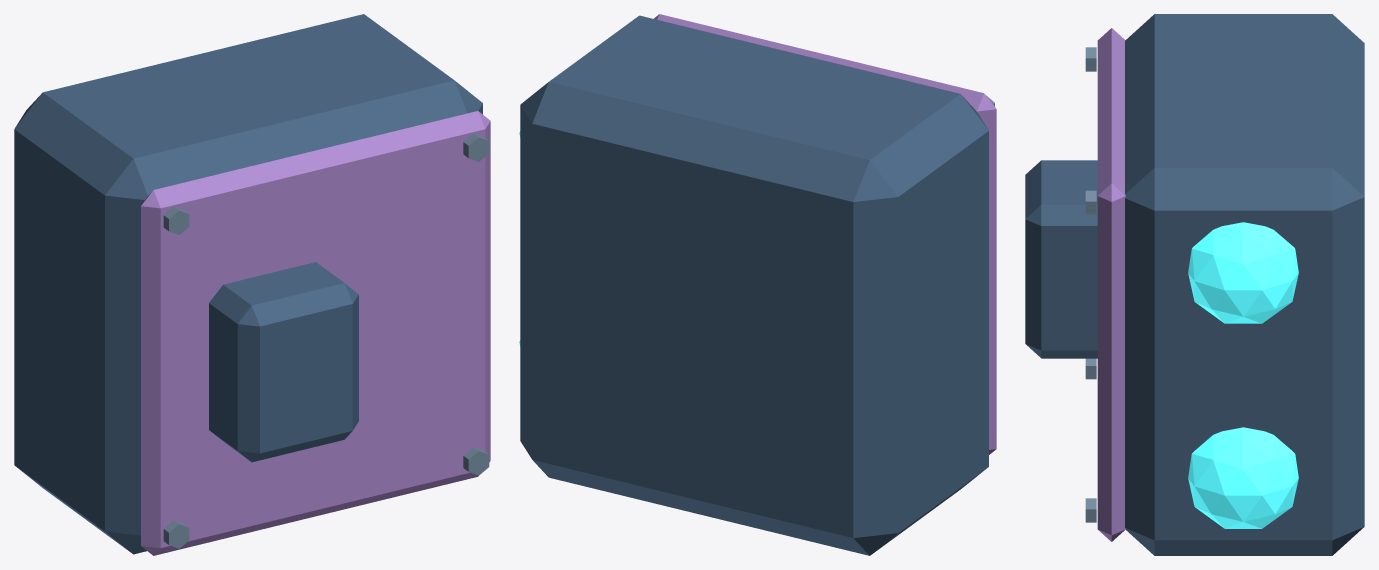
The model's file is arc_emitter.glb.
3 renders of one model, left to right at view 1: azimuth 30°, elevation 25°; view 2: azimuth 150°, elevation 25°; view 3: azimuth 270°, elevation 25°, orthographic.
Visible parts, largest first — view 1: Front armor.003, Structural core.003, Arc transformer, Rivet.018, Rivet.017, Rivet.019, Rivet.016; view 2: Structural core.003, Front armor.003; view 3: Structural core.003, Front armor.003, Arc transformer, Electrode.001, Electrode.
Boxes of the visible parts, left/top/right/bottom form: Front armor.003: left=141, top=111, right=490, bottom=555; Structural core.003: left=14, top=14, right=482, bottom=554; Arc transformer: left=209, top=262, right=358, bottom=462; Rivet.018: left=463, top=447, right=489, bottom=475; Rivet.017: left=163, top=206, right=189, bottom=234; Rivet.019: left=463, top=133, right=489, bottom=161; Rivet.016: left=163, top=520, right=189, bottom=548; Structural core.003: left=520, top=15, right=988, bottom=555; Front armor.003: left=653, top=14, right=996, bottom=454; Structural core.003: left=1125, top=14, right=1364, bottom=555; Front armor.003: left=1097, top=28, right=1125, bottom=541; Arc transformer: left=1025, top=160, right=1097, bottom=358; Electrode.001: left=1188, top=222, right=1298, bottom=323; Electrode: left=1188, top=427, right=1298, bottom=528.
Bounding box in the file's own units: 1.16 × 1.06 × 0.84.
